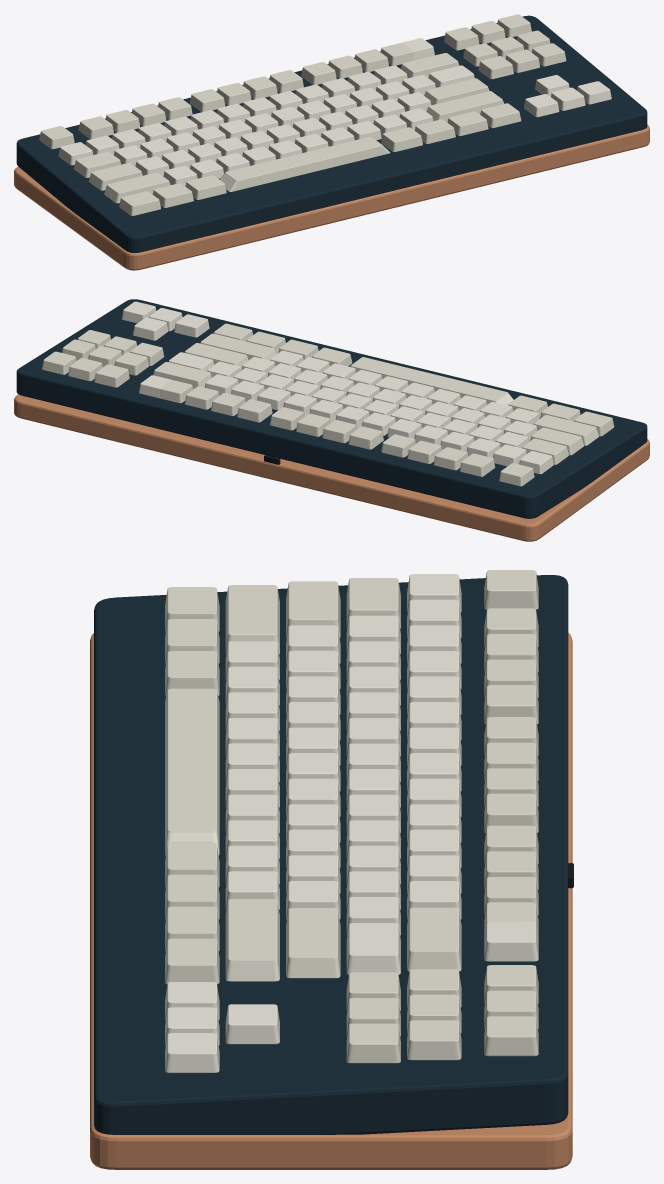
File: keyboard-loomi.glb
3 views of the same model, one above another, from view 1: azimuth 30°, elevation 25°; view 2: azimuth 150°, elevation 25°; view 3: azimuth 270°, elevation 25° (orthographic). The views are drawn at different scales.
Visible parts, largest first — view 1: 하우징 (×2), Space 키, Shift 키 (×2), Alt 키 (×2), Ctrl 키 (×2), Enter 키, Back 키, Caps 키, Tab 키, Fn 키, Win 키, Menu 키 (+74 smaller); view 2: 하우징 (×2), Space 키, Shift 키 (×2), Ctrl 키 (×2), Alt 키 (×2), Back 키, Enter 키, Caps 키, Tab 키, Esc 키, Prt 키, ← 키 (+74 smaller); view 3: 하우징 (×2), Space 키, Shift 키 (×2), Ctrl 키 (×2), Alt 키 (×2), Enter 키, Back 키, \ 키, Caps 키, Pause 키, PgDn 키, PgUp 키 (+74 smaller).
Boxes of the visible parts, left/top/right/bottom form: 하우징 (×2): left=14, top=15, right=649, bottom=270; Space 키: left=219, top=136, right=390, bottom=191; Shift 키 (×2): left=104, top=91, right=504, bottom=203; Alt 키 (×2): left=185, top=127, right=422, bottom=199; Ctrl 키 (×2): left=119, top=103, right=521, bottom=215; Enter 키: left=424, top=78, right=489, bottom=105; Back 키: left=400, top=53, right=459, bottom=78; Caps 키: left=89, top=163, right=142, bottom=190; Tab 키: left=73, top=151, right=120, bottom=177; Fn 키: left=414, top=119, right=455, bottom=144; Win 키: left=152, top=183, right=193, bottom=207; Menu 키: left=447, top=111, right=488, bottom=136; 하우징 (×2): left=14, top=299, right=649, bottom=541; Space 키: left=350, top=357, right=513, bottom=405; Shift 키 (×2): left=200, top=333, right=599, bottom=445; Ctrl 키 (×2): left=213, top=323, right=614, bottom=436; Alt 키 (×2): left=312, top=347, right=547, bottom=417; Back 키: left=153, top=362, right=211, bottom=389; Enter 키: left=184, top=343, right=248, bottom=370; Caps 키: left=530, top=427, right=583, bottom=455; Tab 키: left=522, top=438, right=568, bottom=464; Esc 키: left=499, top=463, right=534, bottom=486; Prt 키: left=94, top=364, right=129, bottom=387; ← 키: left=174, top=314, right=209, bottom=337; 하우징 (×2): left=90, top=575, right=572, bottom=1169; Space 키: left=165, top=688, right=219, bottom=855; Shift 키 (×2): left=225, top=585, right=279, bottom=981; Ctrl 키 (×2): left=165, top=587, right=219, bottom=984; Alt 키 (×2): left=165, top=651, right=219, bottom=887; Enter 키: left=286, top=908, right=340, bottom=978; Back 키: left=407, top=907, right=461, bottom=971; \ 키: left=346, top=923, right=400, bottom=974; Caps 키: left=286, top=581, right=340, bottom=638; Pause 키: left=484, top=1016, right=538, bottom=1056; PgDn 키: left=346, top=1023, right=400, bottom=1063; PgUp 키: left=407, top=1020, right=461, bottom=1060.
Bounding box in the file's own units: 7.05 × 0.7359 × 2.82.
